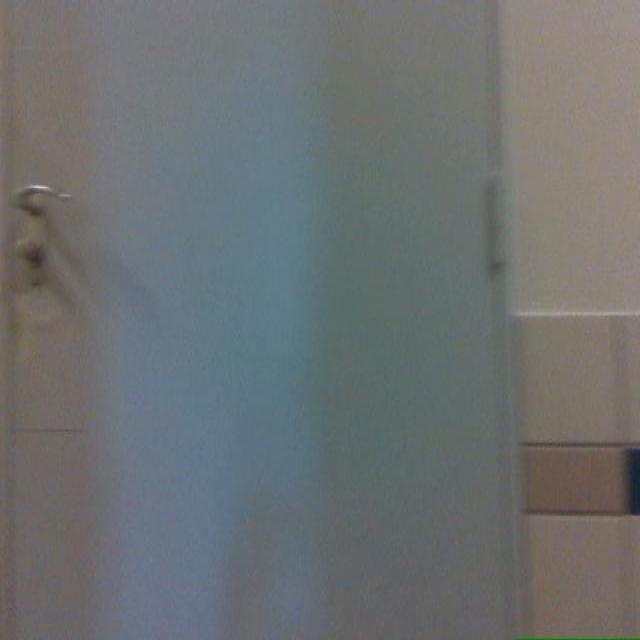objects: (0, 0, 517, 639)
